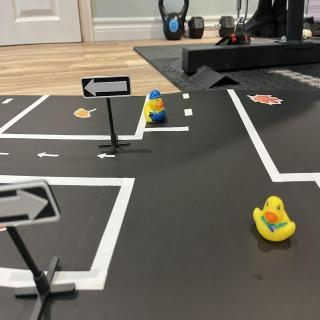duck_regular: (252, 195, 298, 245)
duck_specialty: (143, 90, 167, 126)
road_oneway: (38, 150, 62, 163), (95, 152, 119, 162)
sign_oneway_left: (82, 77, 132, 99)
sign_oneway_right: (1, 183, 63, 227)
